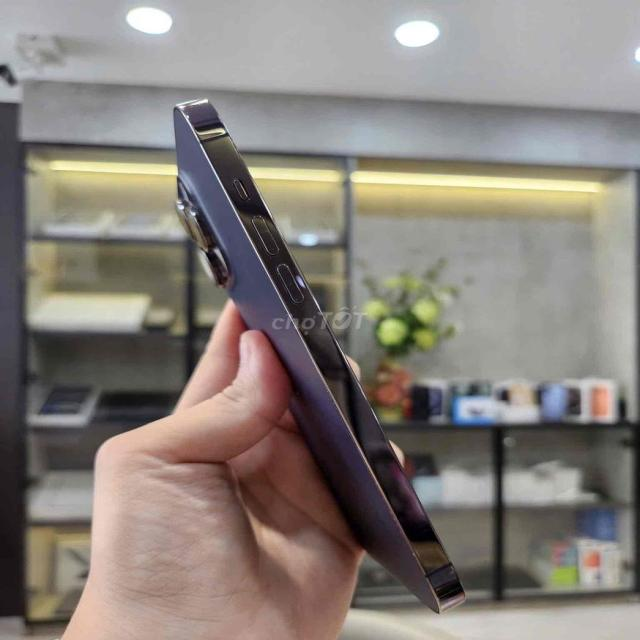gen_14: (145, 77, 481, 620)
